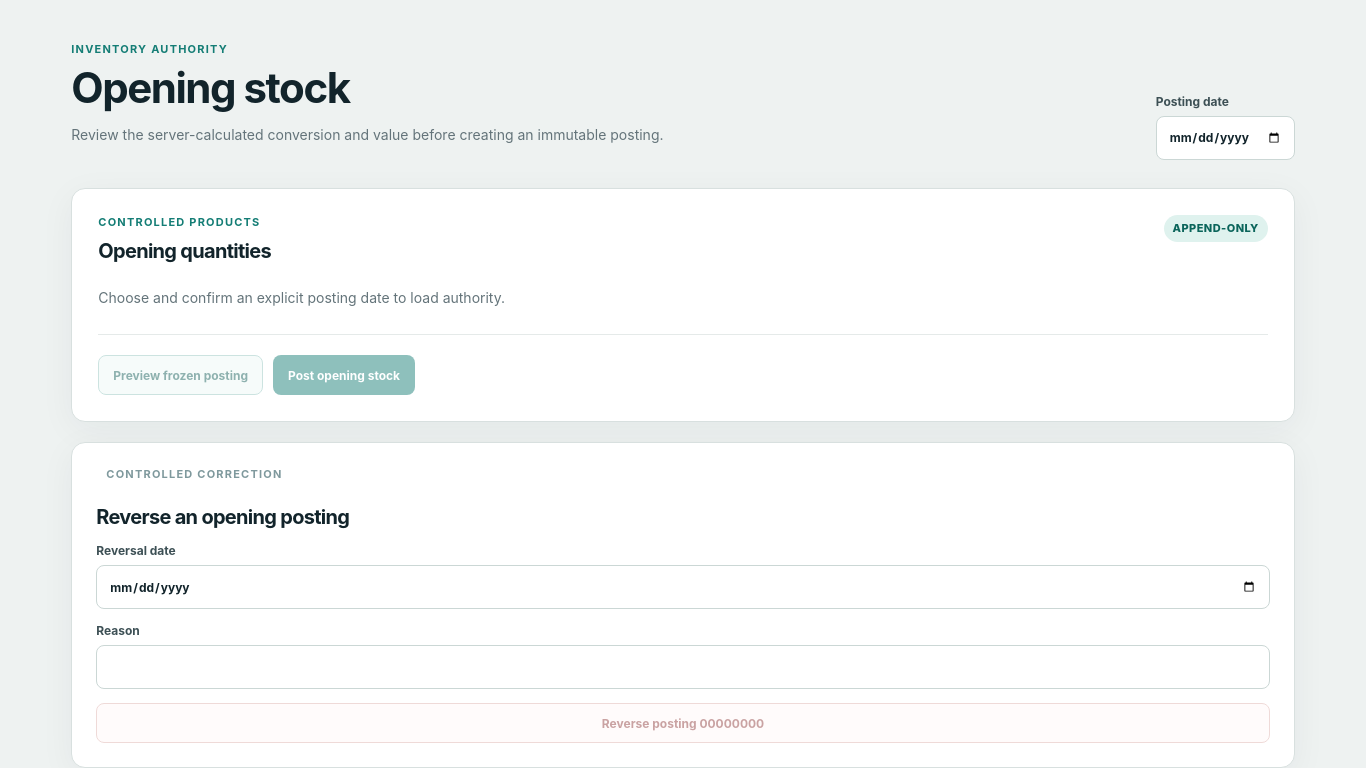
Test case: opening-stock workspace › reuses the reversal idempotency key after an uncertain response
Check: the button "Reverse posting 00000000" is shown, box [96,704,1270,744]
Type "2026-07-19" into the date field labelled "Reversal date" at (683, 588), box [96,566,1270,610]
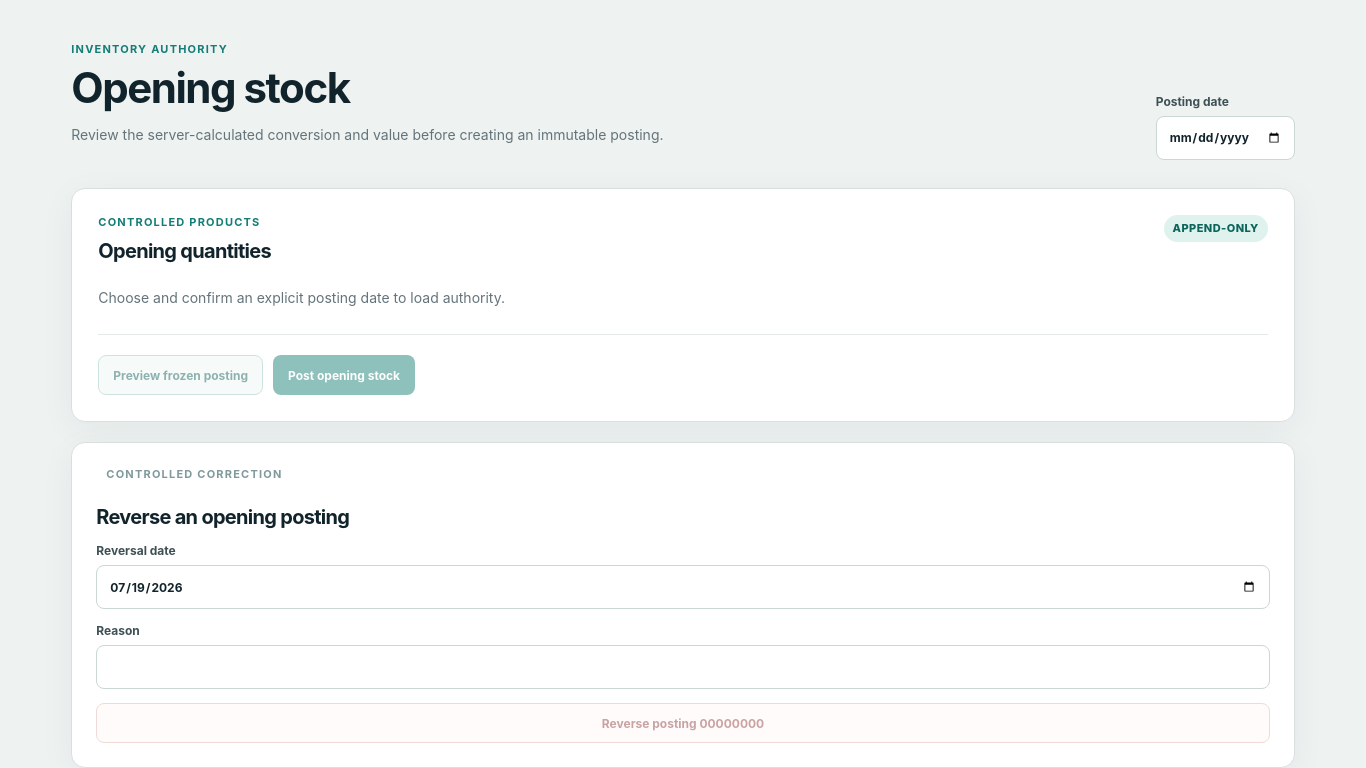
Type "Count correction" into the field labelled "Reason" at (683, 668), box [96,646,1270,690]
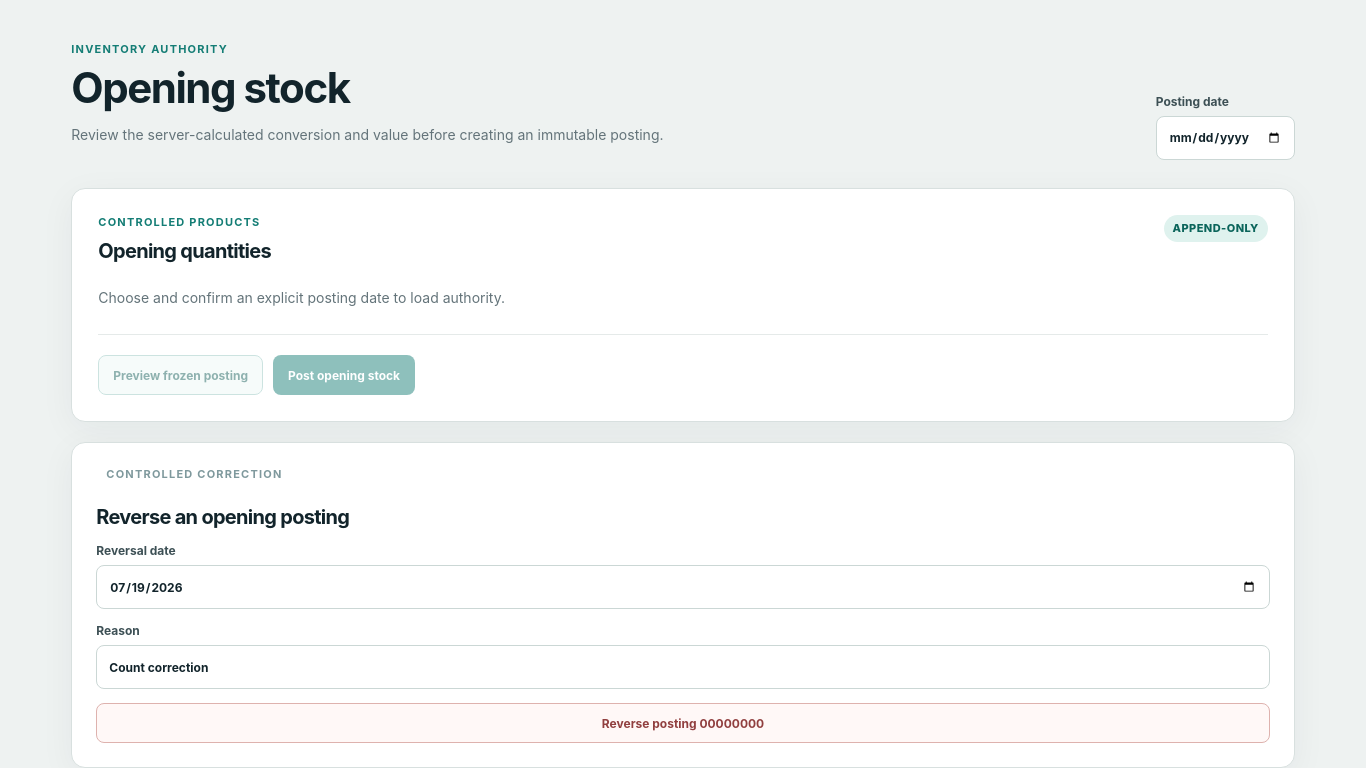
Click the button "Reverse posting 00000000" at (683, 724), box [96,704,1270,744]
(page scrolled)
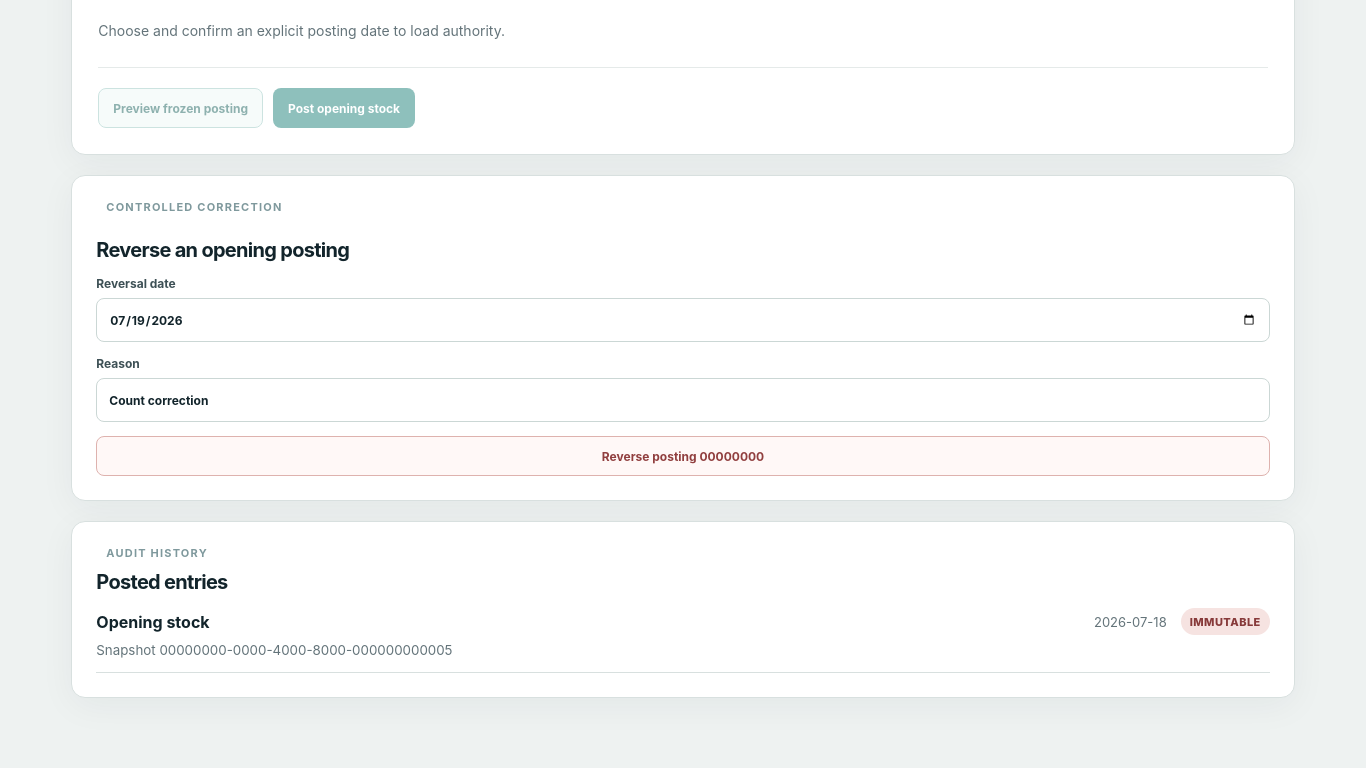
Click the button "Reverse posting 00000000" at (683, 456), box [96,436,1270,476]
(page scrolled)
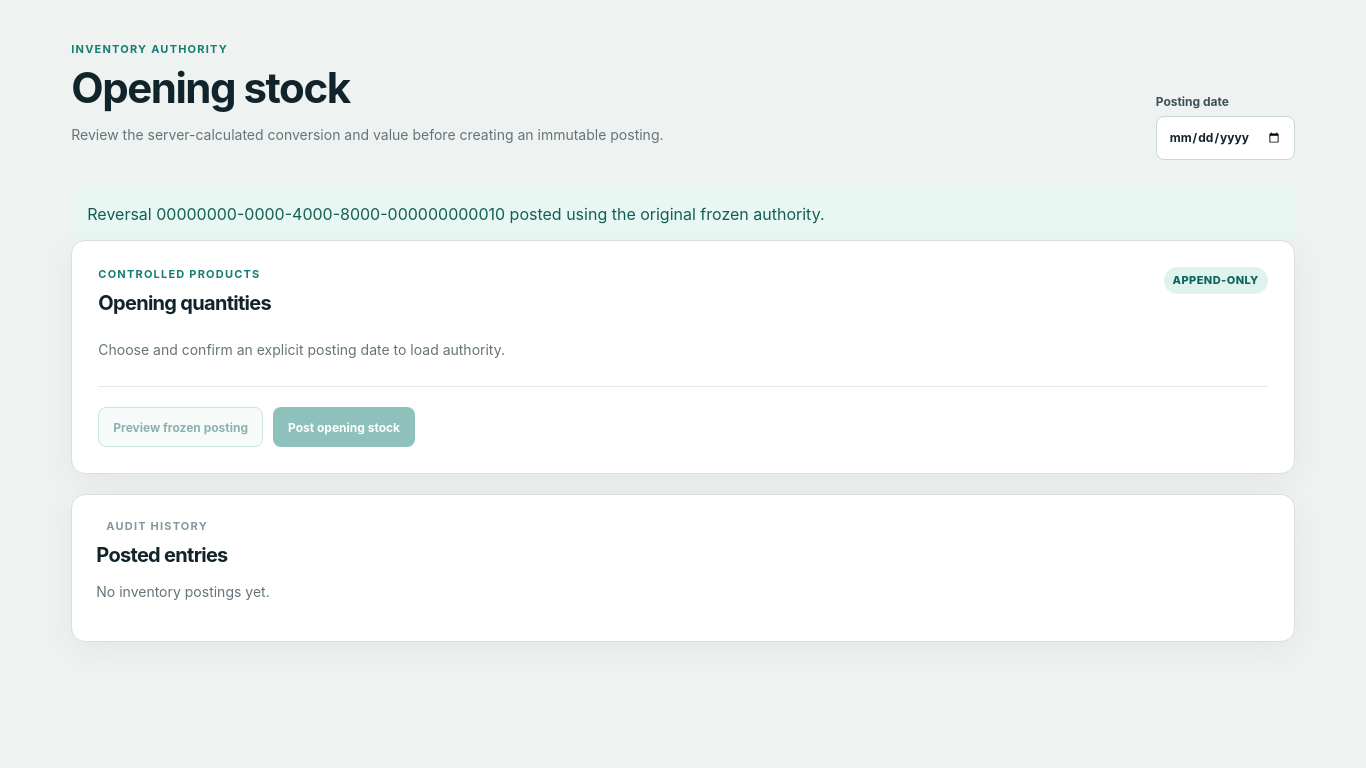
Check: the text "using the original frozen authority" is shown, box [87,204,824,224]
